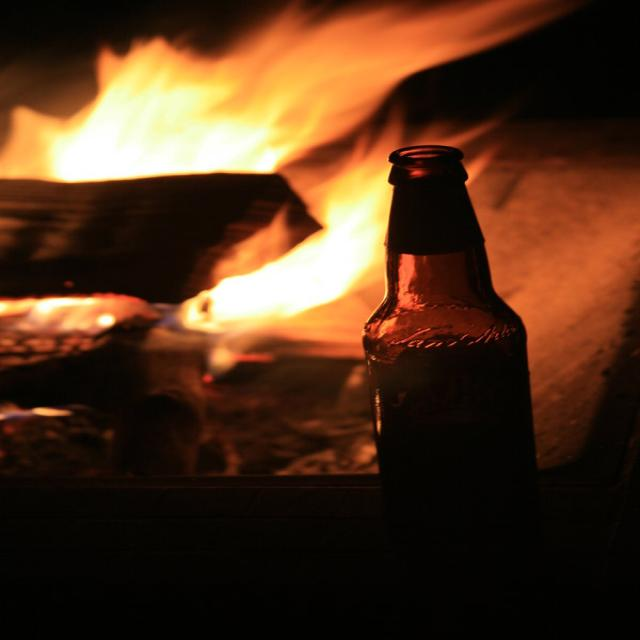Bottle: (389, 106, 572, 563)
